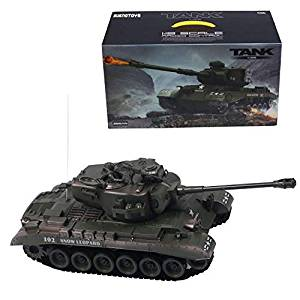Battle Tank: (10, 158, 296, 281), (129, 59, 279, 116)
